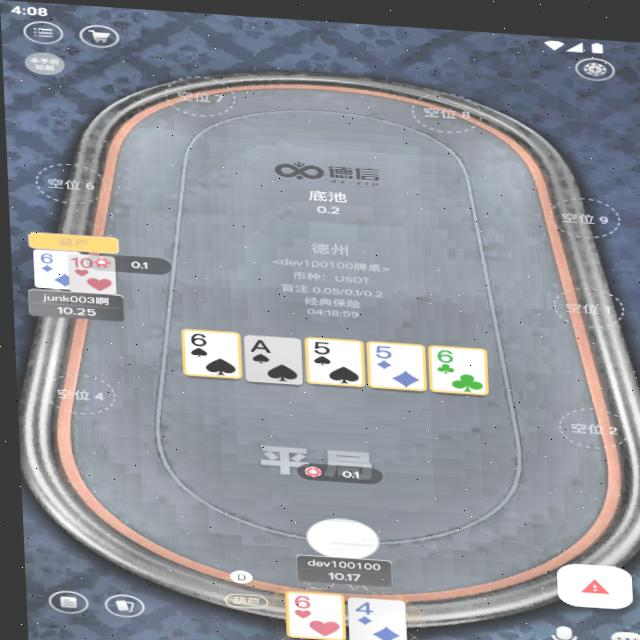10h: (67, 255, 90, 269)
4f: (347, 595, 369, 612)
5f: (370, 340, 390, 355)
5s: (309, 335, 330, 352)
6f: (34, 250, 54, 265)
6h: (285, 590, 308, 606)
6m: (430, 342, 454, 358)
6s: (185, 329, 209, 346)
As: (246, 334, 268, 351)
